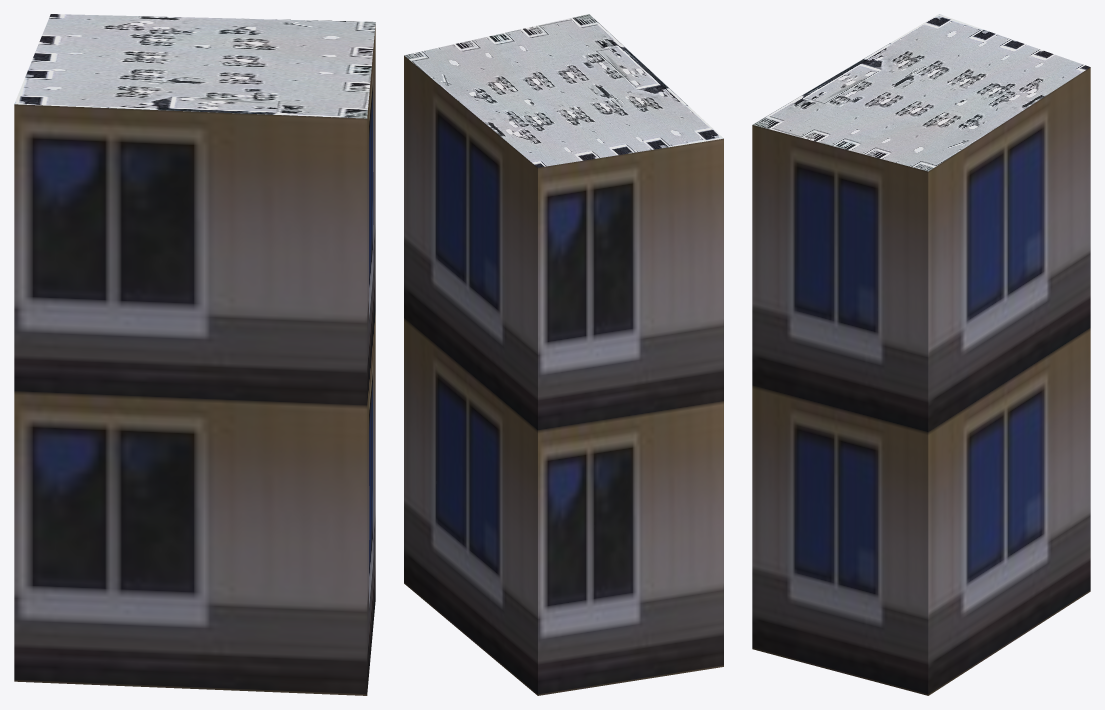
Rendered from ResTex__672.fbx.
3 views of the same model, side by side, from view 1: azimuth 30°, elevation 25°; view 2: azimuth 150°, elevation 25°; view 3: azimuth 270°, elevation 25° (orthographic). The views are drawn at different scales.
Parts seen in each view (by area): view 1: CityEngineMaterial_5_m, CityEngineMaterial_m; view 2: CityEngineMaterial_5_m, CityEngineMaterial_m; view 3: CityEngineMaterial_5_m, CityEngineMaterial_m.
Boxes of the visible parts, x1,y1,x2,y2 form: CityEngineMaterial_5_m: (14,25,375,695); CityEngineMaterial_m: (14,14,375,118); CityEngineMaterial_5_m: (404,55,723,695); CityEngineMaterial_m: (404,14,723,167); CityEngineMaterial_5_m: (752,67,1090,695); CityEngineMaterial_m: (752,14,1090,171).
Size of the model in its own units: 3.87 by 6 by 3.51.
2 materials, 2 textured.
